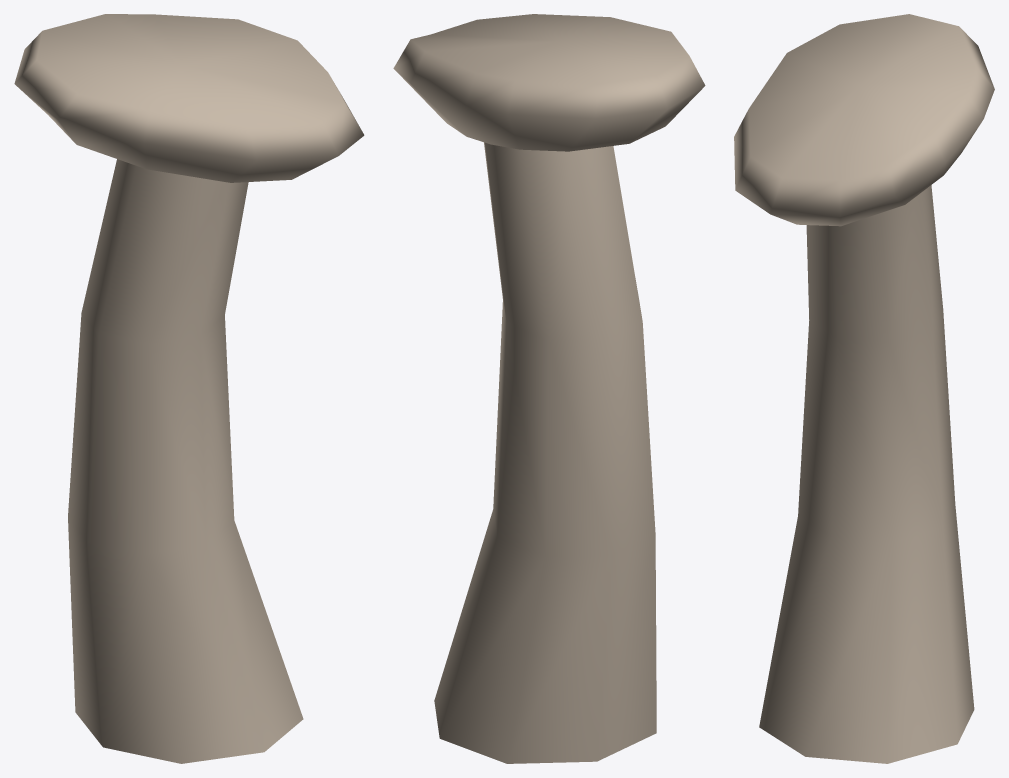
Rendered from SM_LAND_Cave_BigMushroom_02_C.fbx.
3 renders of one model, left to right at view 1: azimuth 30°, elevation 25°; view 2: azimuth 150°, elevation 25°; view 3: azimuth 270°, elevation 25°, orthographic. The views are drawn at different scales.
Visible parts, largest first — view 1: SM_LAND_Cave_BigMushroom_02_C; view 2: SM_LAND_Cave_BigMushroom_02_C; view 3: SM_LAND_Cave_BigMushroom_02_C.
Part boxes in pixels (x1,y1,x2,y2): SM_LAND_Cave_BigMushroom_02_C: (14,14,364,763); SM_LAND_Cave_BigMushroom_02_C: (393,14,705,763); SM_LAND_Cave_BigMushroom_02_C: (734,14,994,763).
Size of the model in its own units: 16.23 by 36.33 by 13.3.
